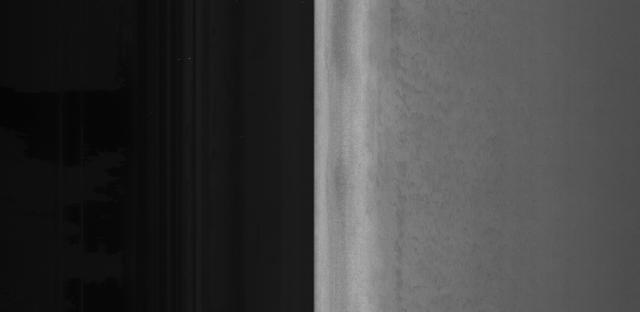silk_spot: (374, 49, 462, 134)
